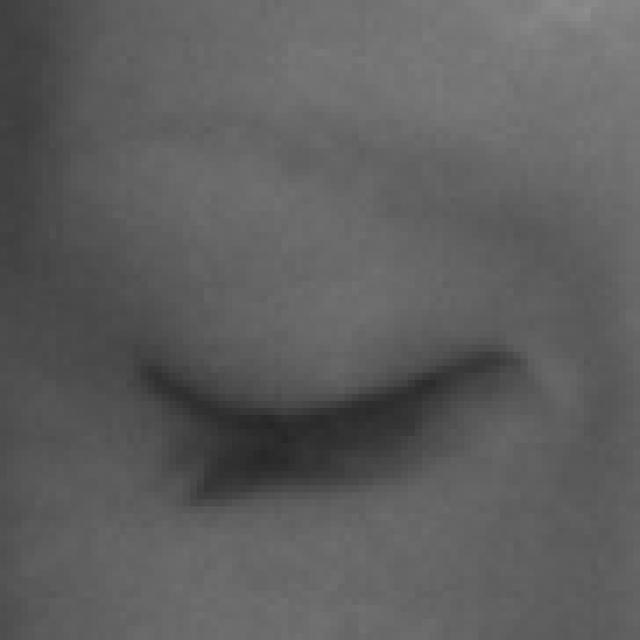Eyeclosed: (141, 257, 511, 612)
